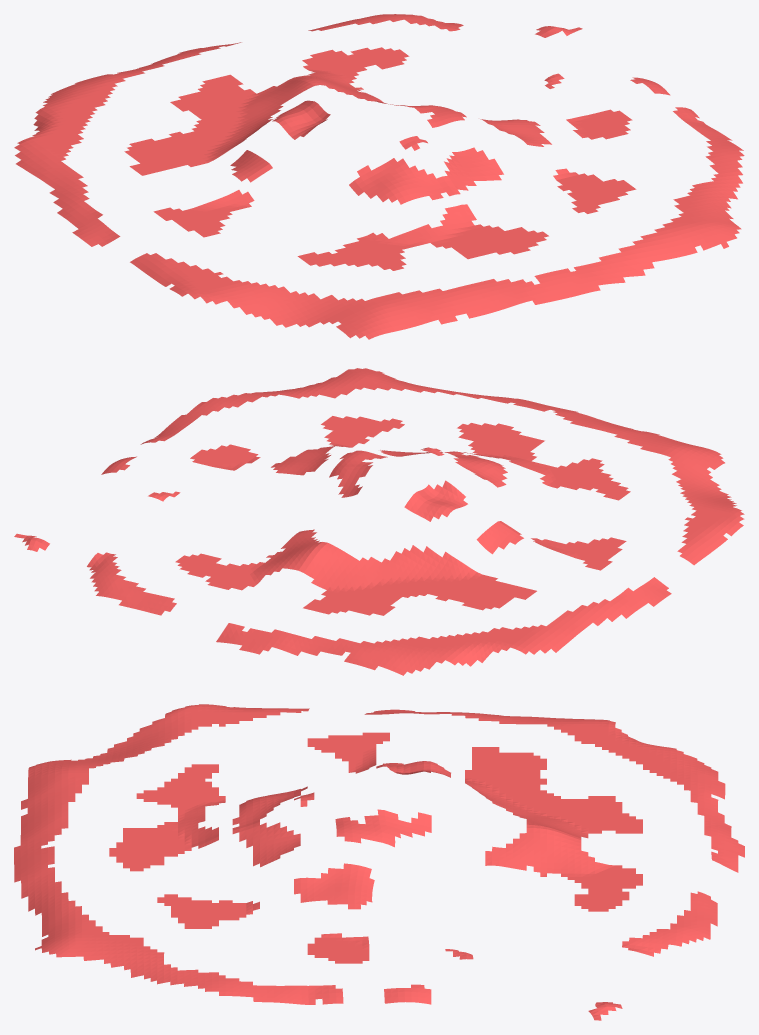
Rendered from treeline.glb.
The picture shows the model from 3 angles, top to bottom: view 1: azimuth 30°, elevation 25°; view 2: azimuth 150°, elevation 25°; view 3: azimuth 270°, elevation 25°; orthographic projection. The views are drawn at different scales.
Parts seen in each view (by area): view 1: Treeline; view 2: Treeline; view 3: Treeline.
Boxes of the visible parts, x1,y1,x2,y2 form: Treeline: (14, 14, 744, 339); Treeline: (14, 368, 744, 675); Treeline: (14, 704, 744, 1020).
Bounding box in the file's own units: 28.23 × 3.29 × 28.61.
